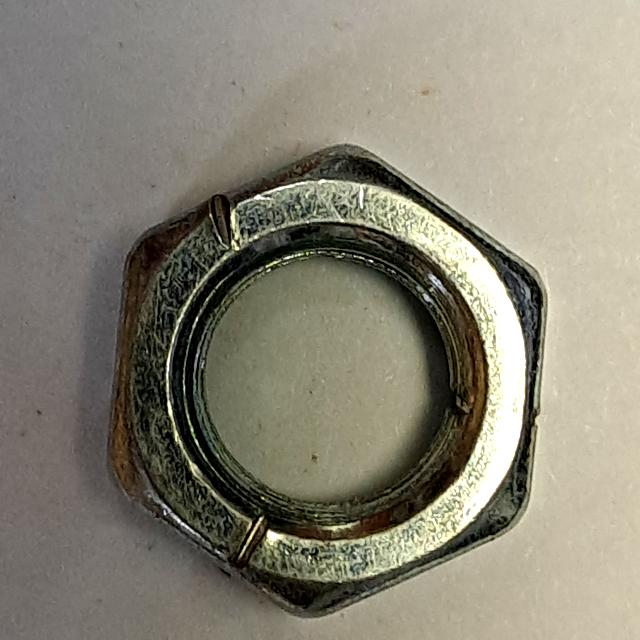Scratches: (98, 132, 559, 635)
